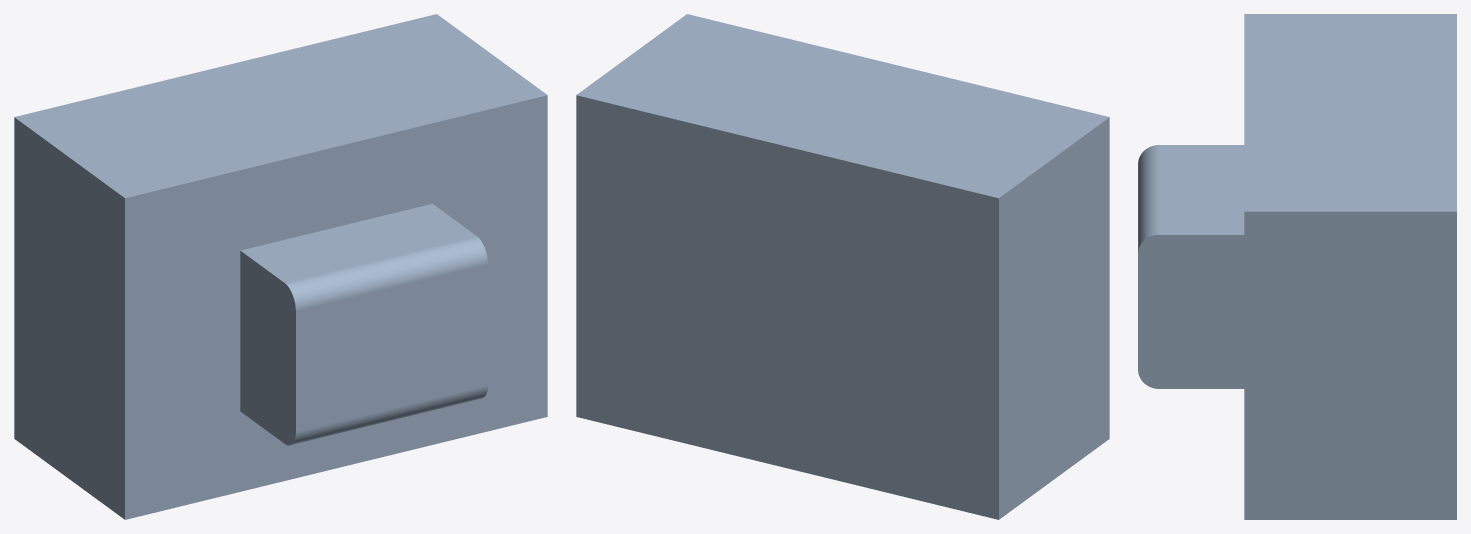
The model's file is editor-profile-history.glb.
3 renders of one model, left to right at view 1: azimuth 30°, elevation 25°; view 2: azimuth 150°, elevation 25°; view 3: azimuth 270°, elevation 25°, orthographic. The views are drawn at different scales.
Visible parts, largest first — view 1: 编辑器候选验收; view 2: 编辑器候选验收; view 3: 编辑器候选验收.
Part boxes in pixels (x1=…): 编辑器候选验收: x1=14, y1=14, x2=547, y2=519; 编辑器候选验收: x1=576, y1=14, x2=1109, y2=519; 编辑器候选验收: x1=1138, y1=14, x2=1456, y2=519.
Size of the model in its own units: 22 by 16 by 15.
